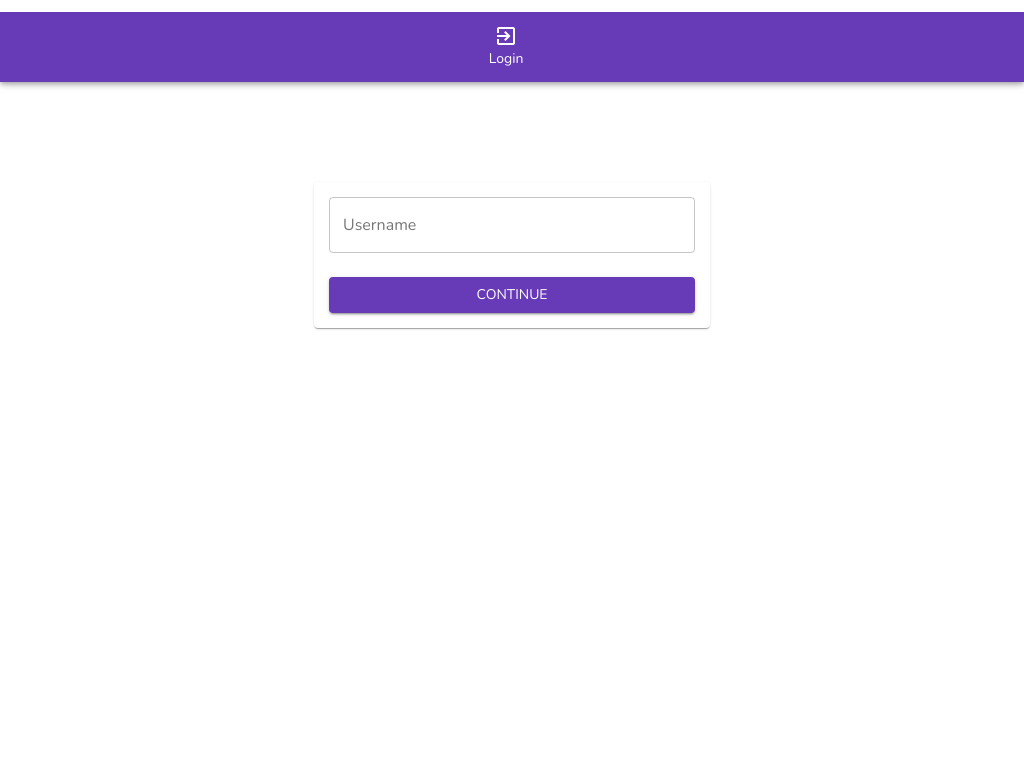
Test: Reports test › Report success
Type "Dario" into the field named "username". click: {"x": 512, "y": 225}
box: left=329, top=197, right=695, bottom=253
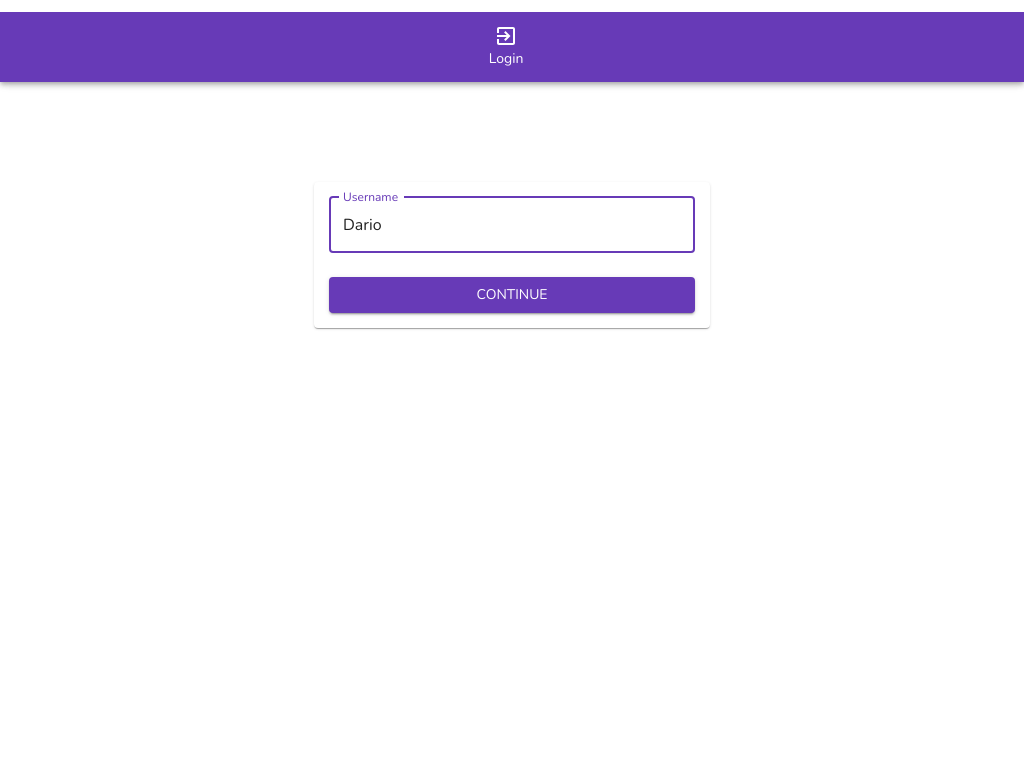
Click the button "Continue". click: {"x": 512, "y": 296}
box: left=329, top=277, right=695, bottom=314
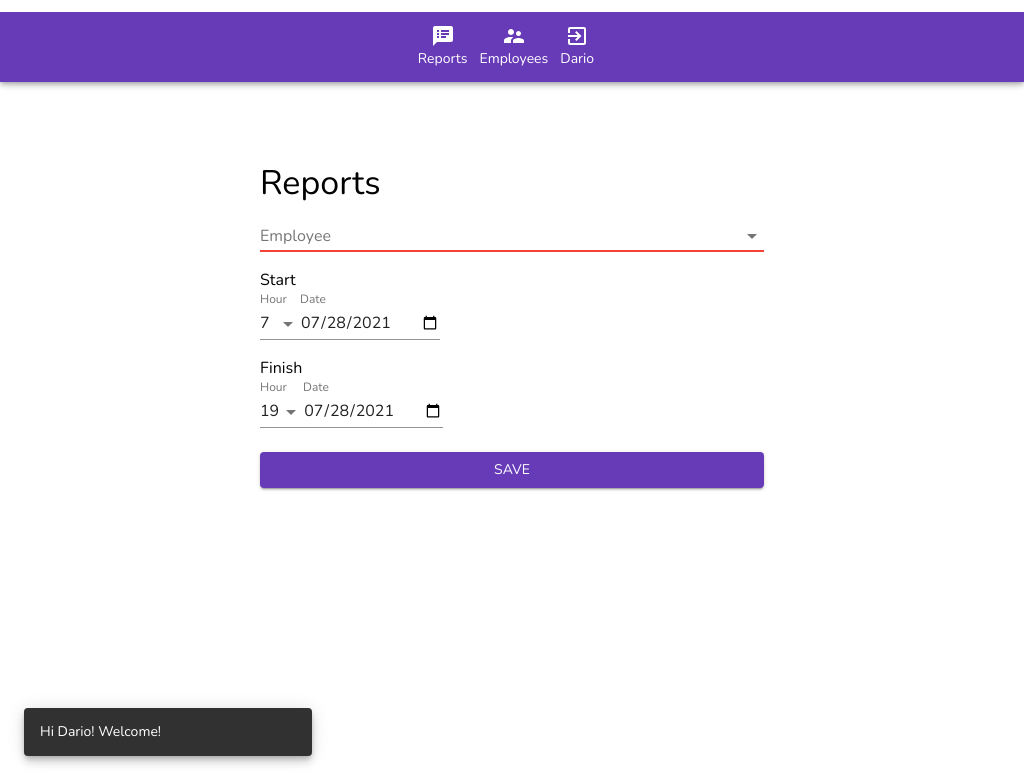
Click the 4th button. click: {"x": 512, "y": 236}
box: left=260, top=220, right=764, bottom=252
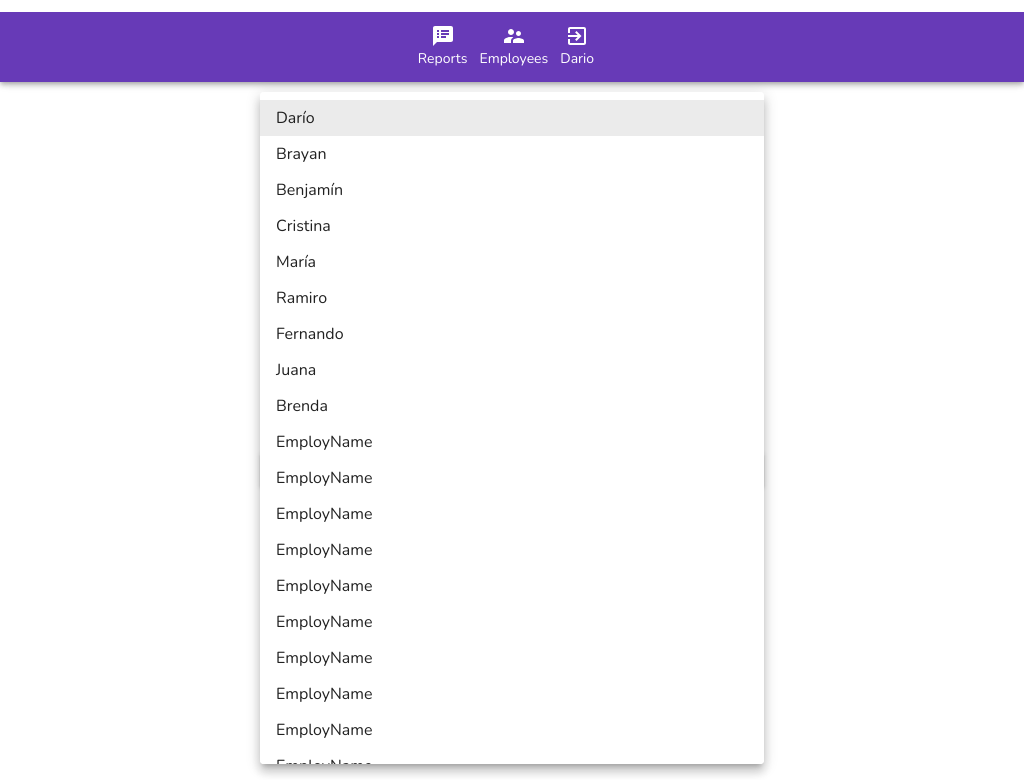
Click the option "Cristina". click: {"x": 304, "y": 226}
box: left=276, top=215, right=331, bottom=237
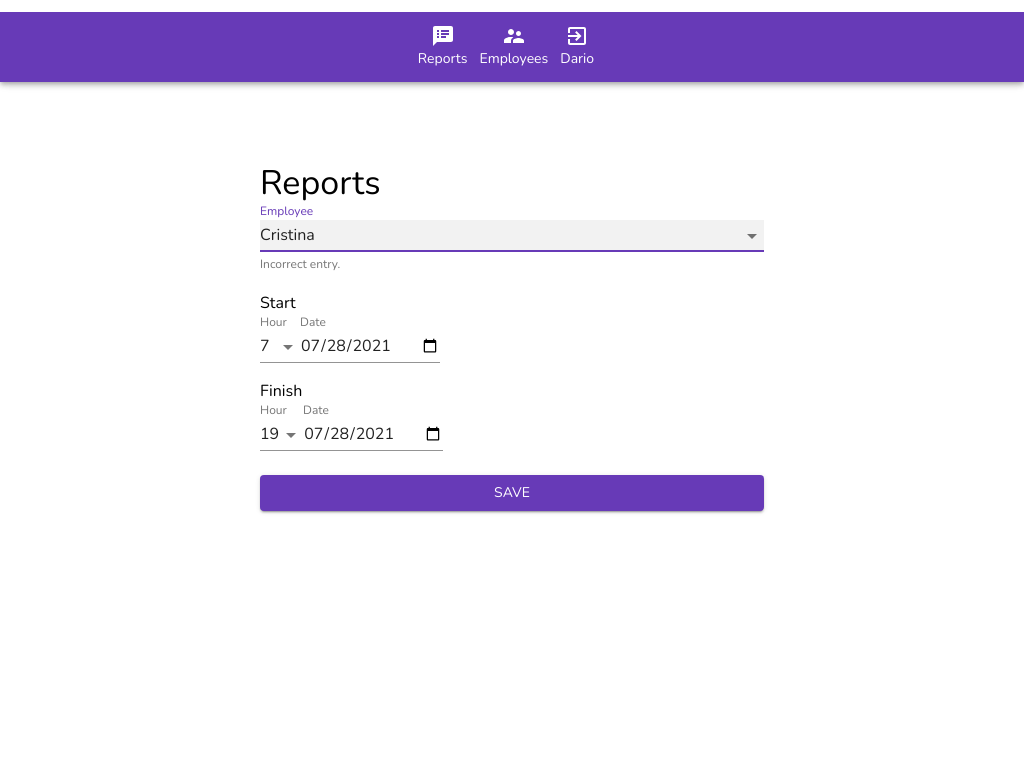
Click the button "Save". click: {"x": 512, "y": 494}
box: left=260, top=475, right=764, bottom=512
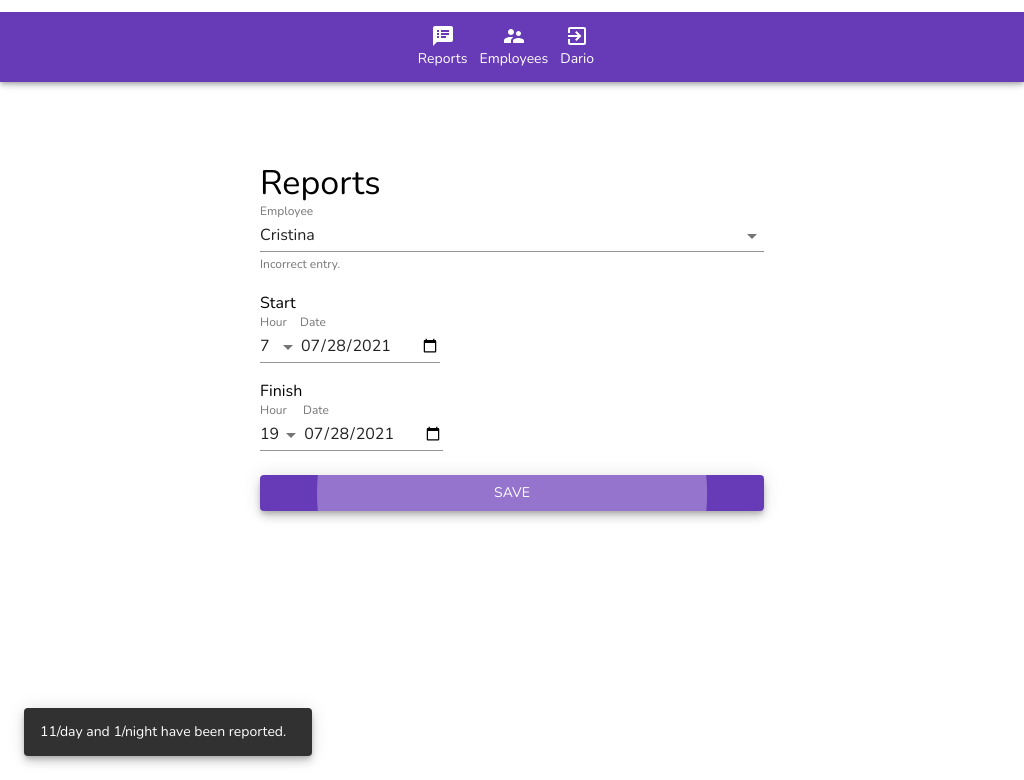
Check: the text "11/day and 1/night have been reported." is shown, box left=40, top=722, right=286, bottom=741
